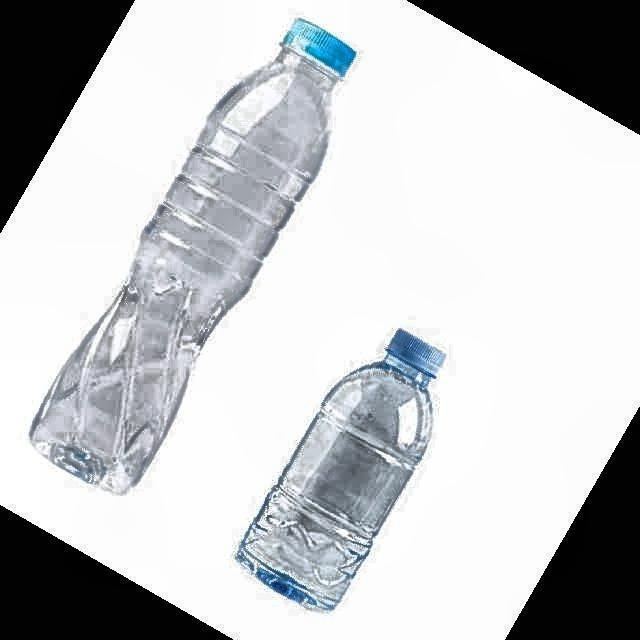plastic: (31, 21, 355, 492), (238, 331, 444, 609)
